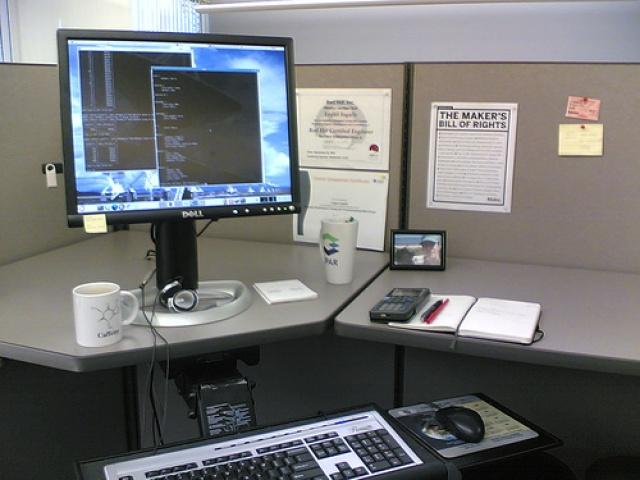AIO PC-Monitor-TV: (56, 25, 301, 226)
